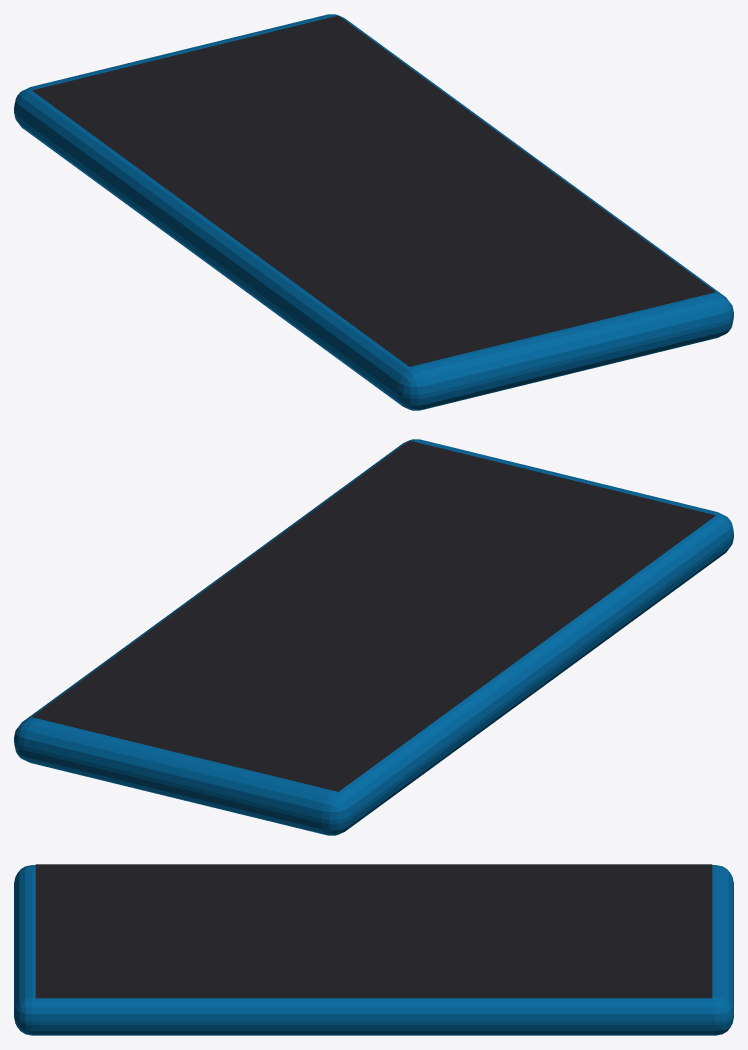
The model's file is Phone_955.glb.
3 renders of one model, top to bottom at view 1: azimuth 30°, elevation 25°; view 2: azimuth 150°, elevation 25°; view 3: azimuth 270°, elevation 25°, orthographic. The views are drawn at different scales.
Parts seen in each view (by area): view 1: Phone_Screen, Phone_Body; view 2: Phone_Screen, Phone_Body; view 3: Phone_Screen, Phone_Body.
Boxes of the visible parts, left/top/right/bottom form: Phone_Screen: left=32, top=15, right=715, bottom=366; Phone_Body: left=14, top=14, right=733, bottom=410; Phone_Screen: left=32, top=440, right=715, bottom=791; Phone_Body: left=14, top=439, right=733, bottom=835; Phone_Screen: left=35, top=864, right=712, bottom=998; Phone_Body: left=14, top=865, right=733, bottom=1035.
Bounding box in the file's own units: 0.0755 × 0.0091 × 0.1576.
